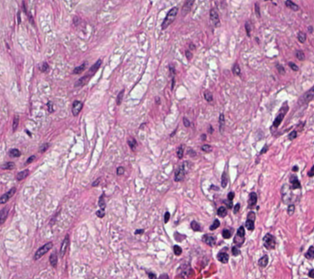nucleus: (34, 242, 52, 259), (273, 106, 287, 126), (174, 162, 188, 181), (0, 188, 15, 203), (89, 60, 101, 75), (75, 74, 90, 86), (263, 233, 275, 248), (60, 235, 68, 256), (72, 100, 82, 115), (0, 207, 8, 224), (202, 234, 214, 245), (73, 63, 85, 73), (248, 192, 256, 207), (209, 219, 219, 230), (217, 252, 228, 262), (16, 170, 28, 179), (258, 255, 267, 267), (116, 89, 123, 104), (24, 155, 35, 164), (49, 252, 56, 266), (232, 63, 240, 75), (128, 138, 136, 150), (221, 171, 227, 187), (1, 162, 14, 169), (12, 115, 18, 130), (98, 194, 104, 209), (217, 206, 226, 216), (204, 90, 212, 101), (9, 148, 20, 156), (245, 219, 253, 230), (219, 113, 224, 130), (39, 143, 48, 152), (191, 221, 200, 230), (201, 144, 211, 152), (236, 226, 244, 236), (173, 245, 181, 255), (40, 62, 48, 71), (276, 64, 284, 73), (222, 229, 230, 238), (231, 246, 239, 255), (177, 145, 182, 158), (96, 209, 104, 217), (116, 166, 123, 175), (247, 211, 254, 220), (47, 102, 53, 112), (260, 145, 267, 153), (92, 178, 99, 186), (185, 50, 191, 59), (183, 117, 189, 126), (233, 204, 239, 213), (164, 212, 169, 222), (225, 199, 231, 207), (228, 192, 233, 200), (159, 274, 168, 278), (135, 229, 143, 233), (189, 43, 194, 49), (148, 273, 155, 277), (208, 126, 212, 132), (201, 134, 205, 139)
